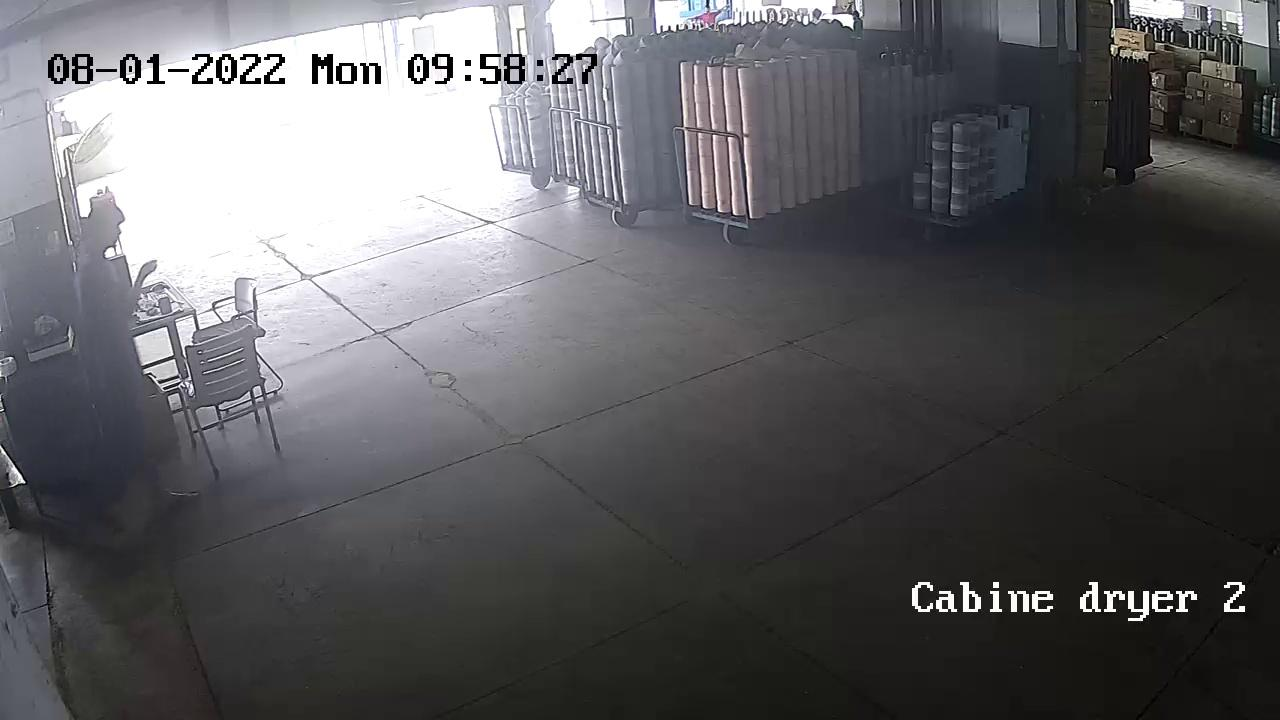person: (81, 200, 179, 510)
